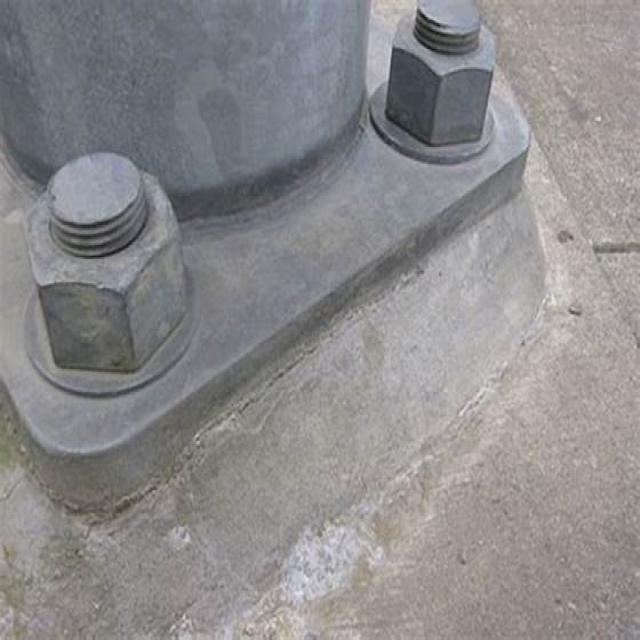bolt nut: (20, 159, 188, 377), (383, 8, 496, 147)
